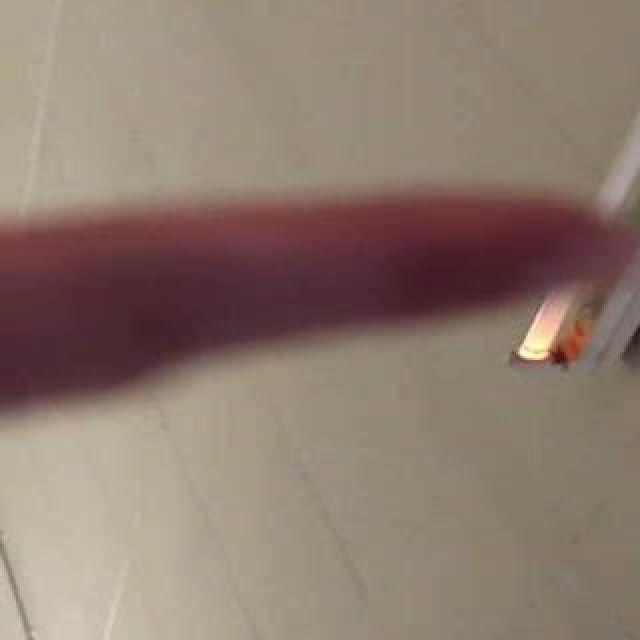fluorescent tube: (448, 0, 640, 390)
